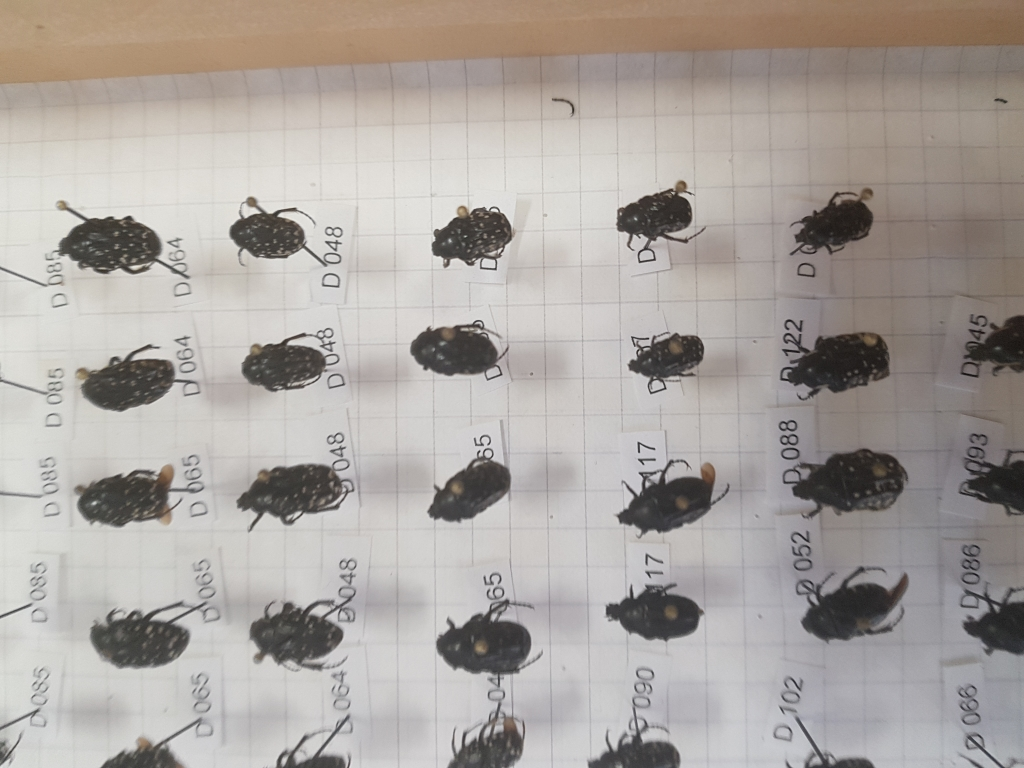Oxythyrea_cinctella: (426, 203, 516, 278)
